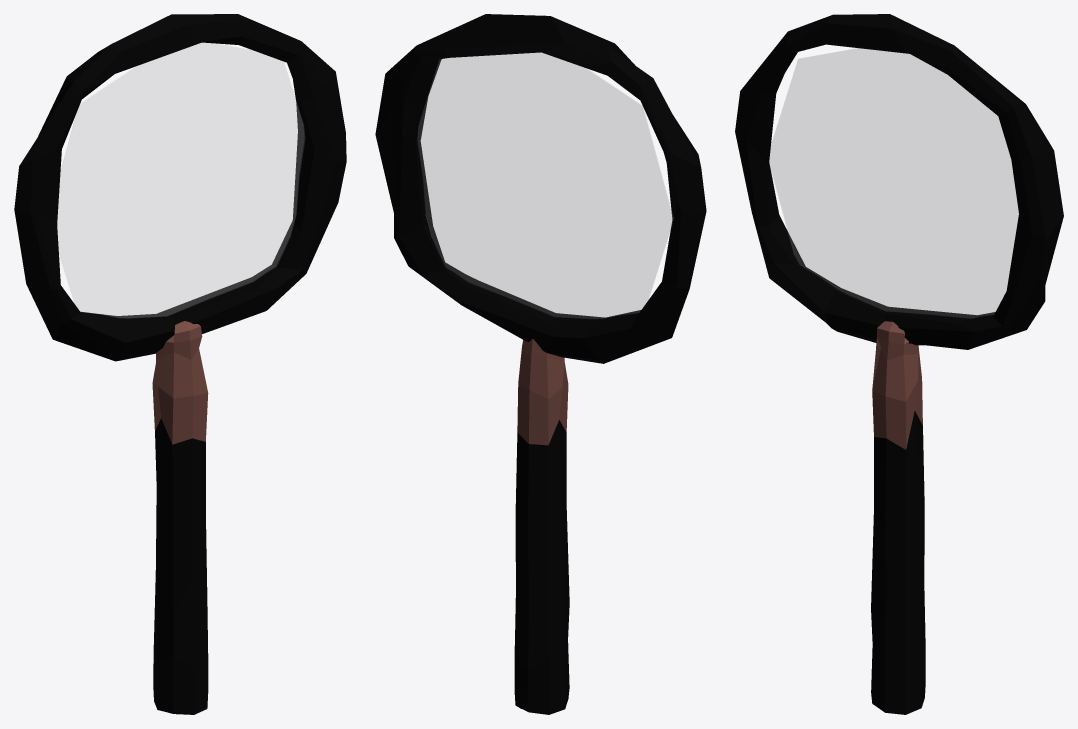
Rendered from magnifier.fbx.
3 views of the same model, side by side, from view 1: azimuth 30°, elevation 25°; view 2: azimuth 150°, elevation 25°; view 3: azimuth 330°, elevation 25° (orthographic).
Parts seen in each view (by area): view 1: magnifier; view 2: magnifier; view 3: magnifier.
Part boxes in pixels (bbox=[...]): magnifier: bbox=[14, 14, 346, 714]; magnifier: bbox=[375, 14, 706, 714]; magnifier: bbox=[735, 14, 1063, 714].
Size of the model in its own units: 53.15 by 7.87 by 106.
